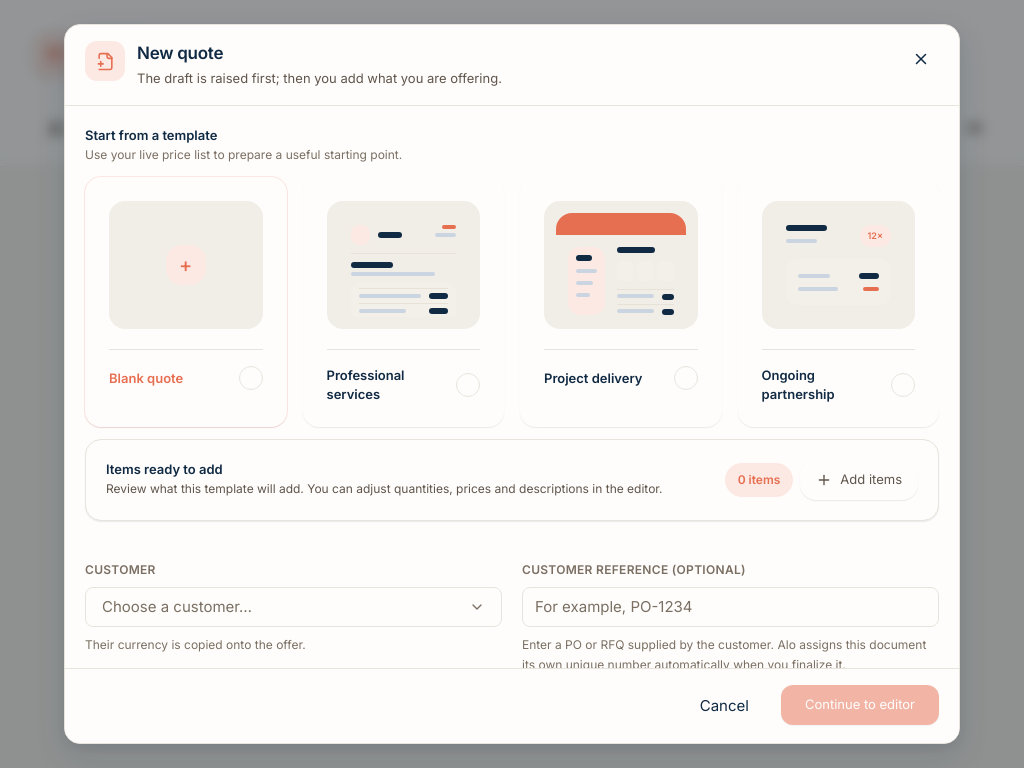
the quote draft editor › a blank quote can add any active price-list item before it is created
This screenshot has width=1024, height=768.
Click the button "Add items".
click(859, 480)  # box [800, 460, 918, 500]
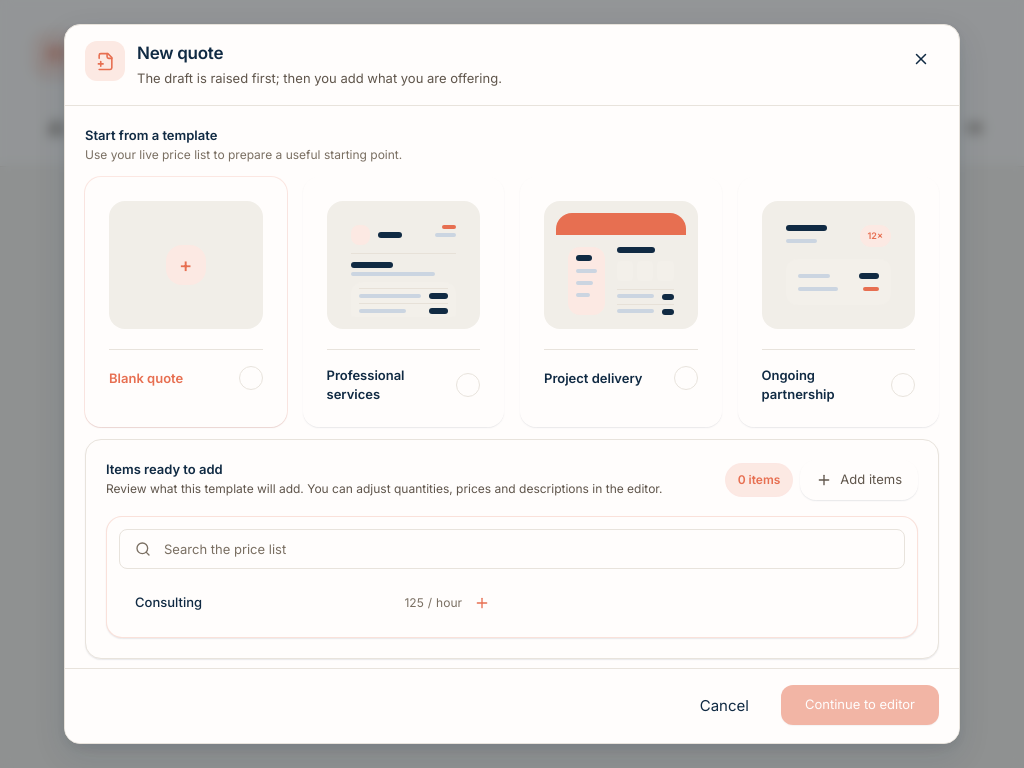
Click the button "Consulting 125/hour".
click(169, 602)  # box [119, 581, 506, 625]
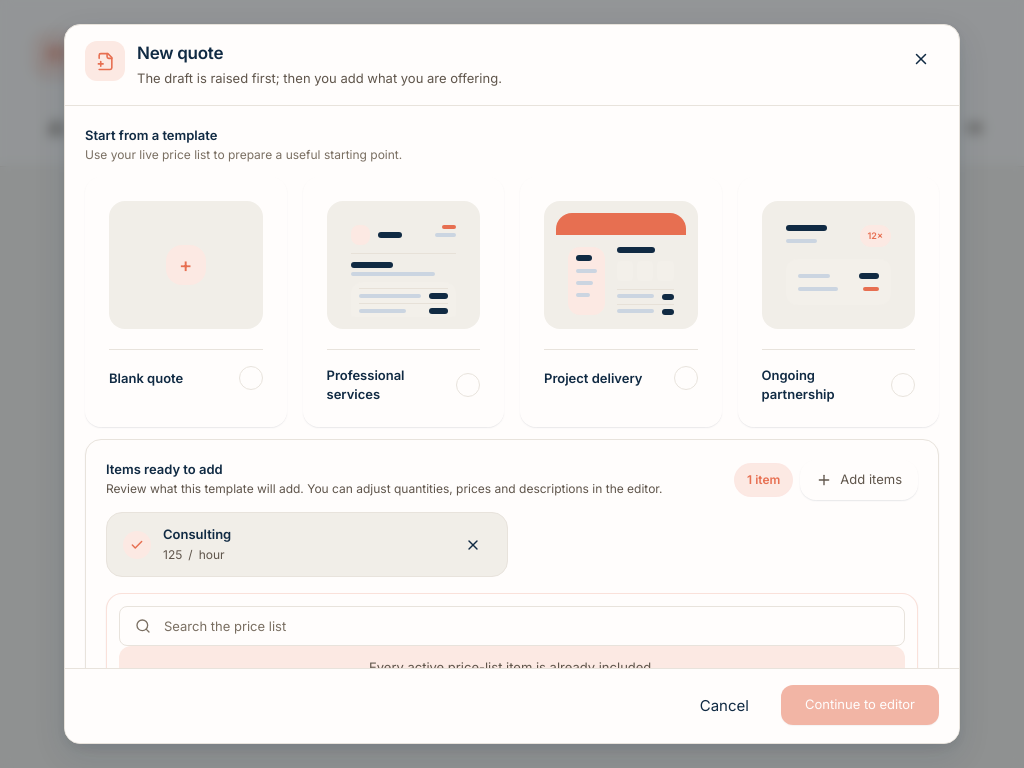
Result: the text "1 item" is shown at [735, 464, 792, 496]
